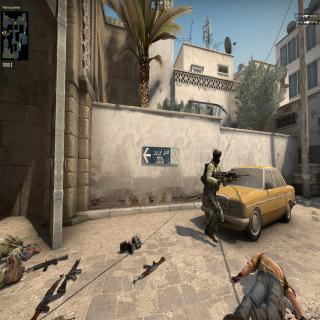CT-Head: (212, 145, 222, 166)
